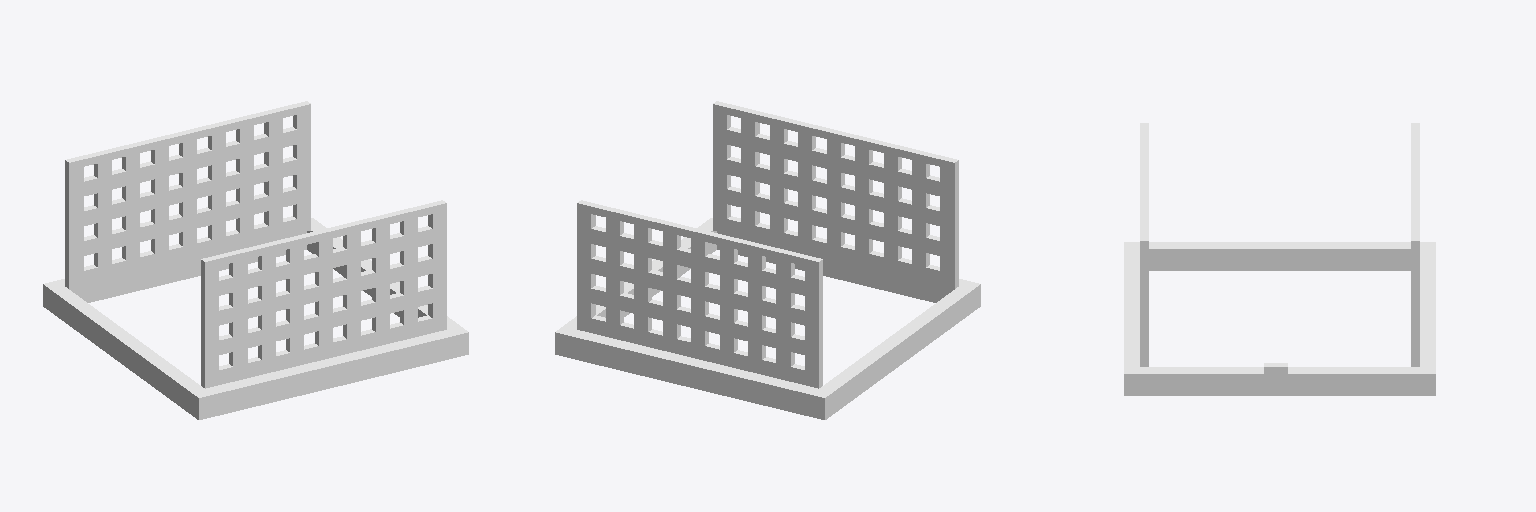
File: cubierta_2_doors_open.obj
3 renders of one model, left to right at view 1: azimuth 30°, elevation 25°; view 2: azimuth 150°, elevation 25°; view 3: azimuth 270°, elevation 25°, orthographic.
Size of the model in its own units: 38 by 20 by 38.